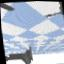drone: (3, 44, 34, 64)
